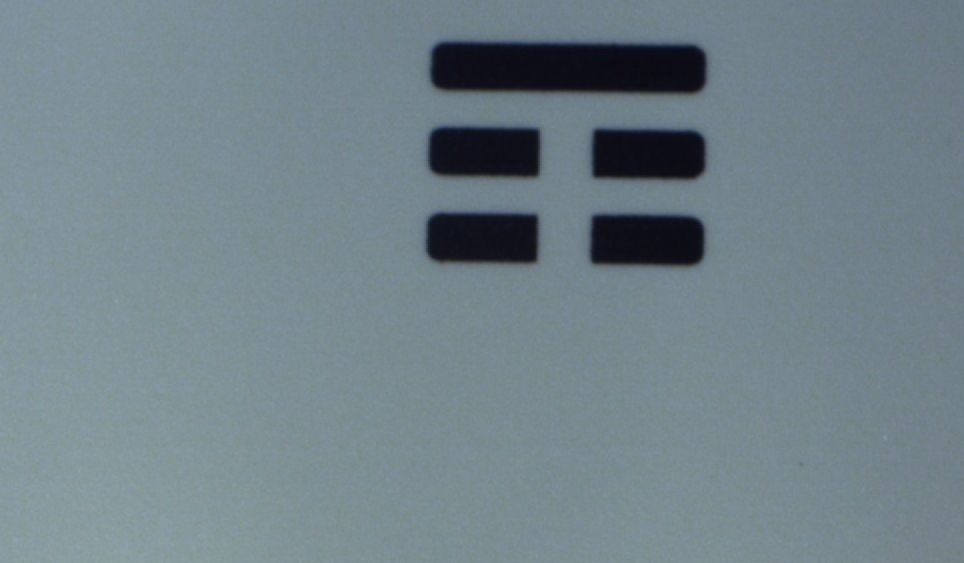BV_F6600PTIM: (411, 30, 716, 291)
